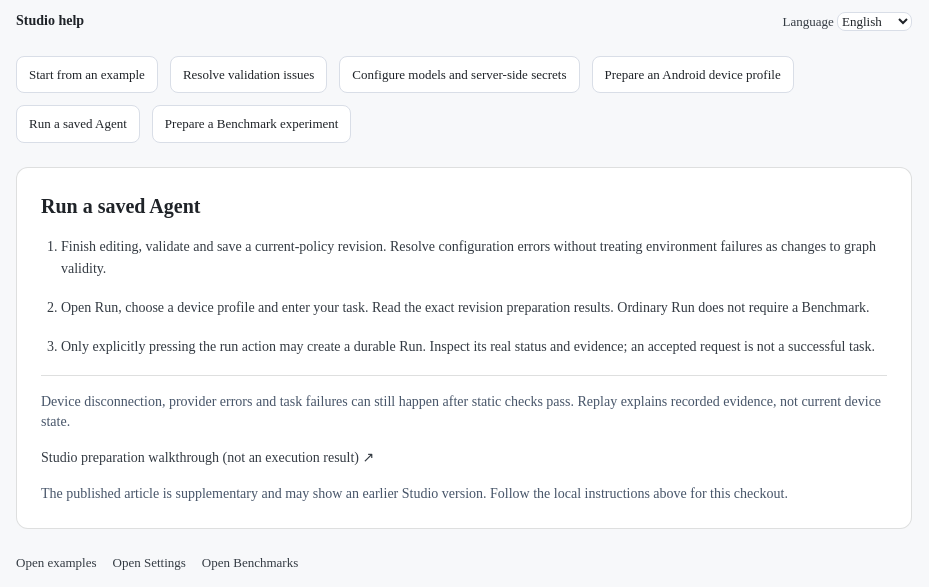
task-oriented bilingual Help › preserves topic run through language changes without runtime requests
Expected: the heading "Run a saved Agent" is shown, [41,194,200,216]
Step 1. Select "简体中文" in the dropdown named "Help language" → point(874, 22), box [837,12,912,31]
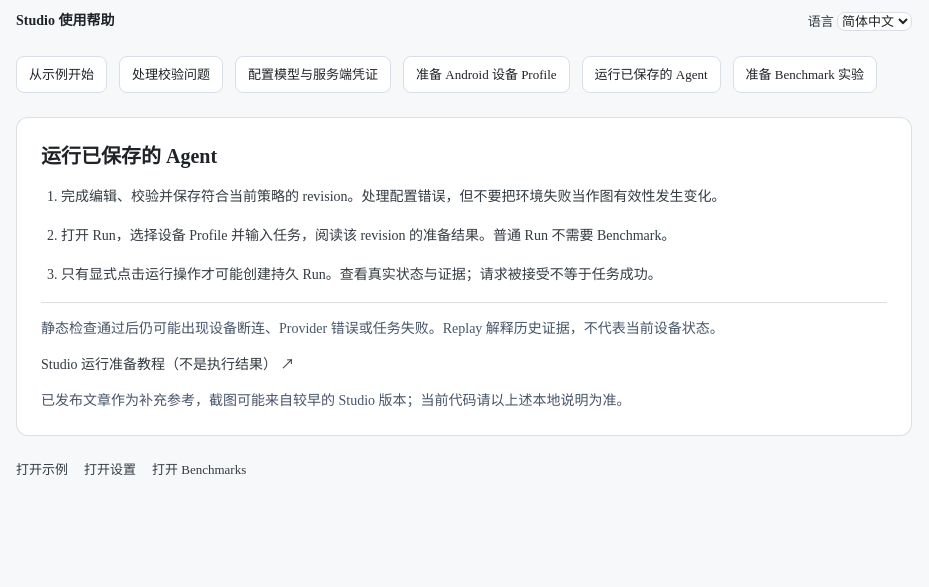
Expected: the number of list items is 3, [61,189,726,204]; [61,228,675,243]; [61,266,662,282]
Expected: the heading "运行已保存的 Agent" is shown, [41,145,217,167]
